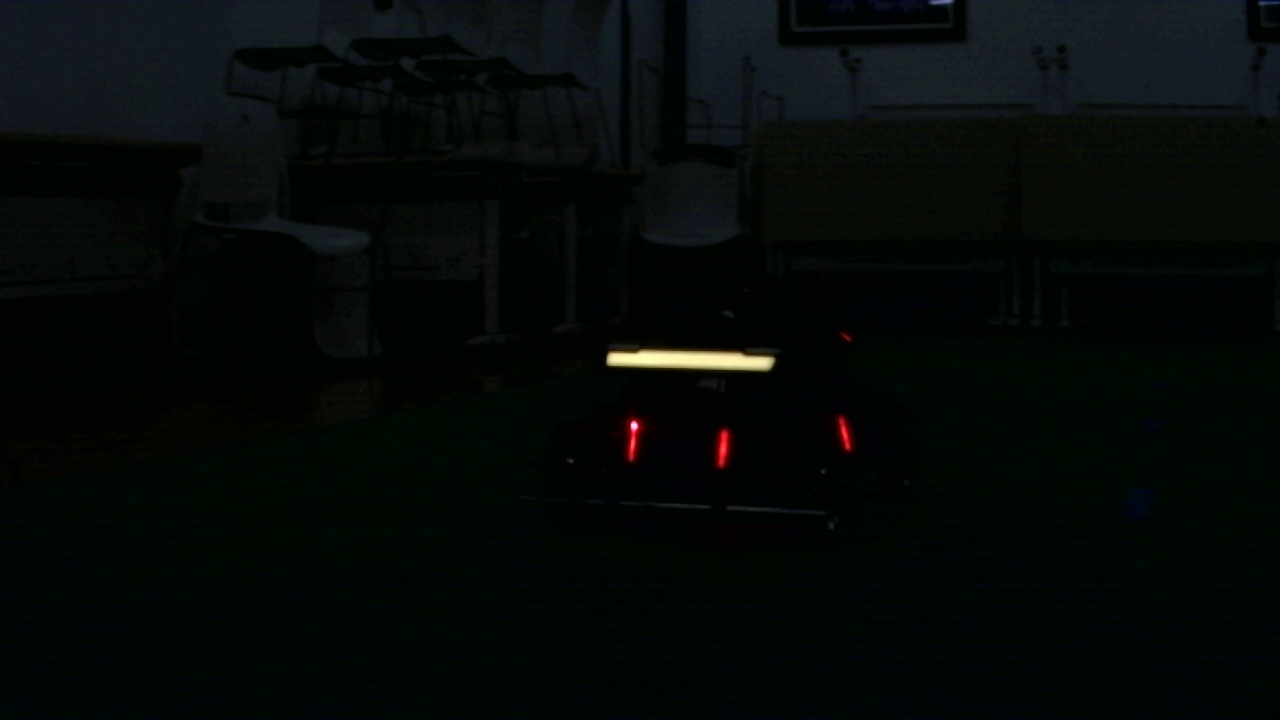lamp: (622, 415, 644, 462), (716, 424, 733, 467), (841, 414, 860, 452)
pair1: (626, 414, 733, 464)
